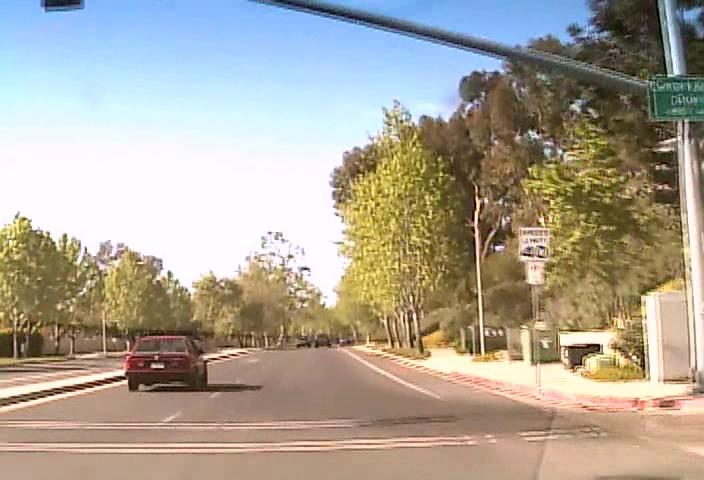speedLimit40: (518, 226, 549, 261)
